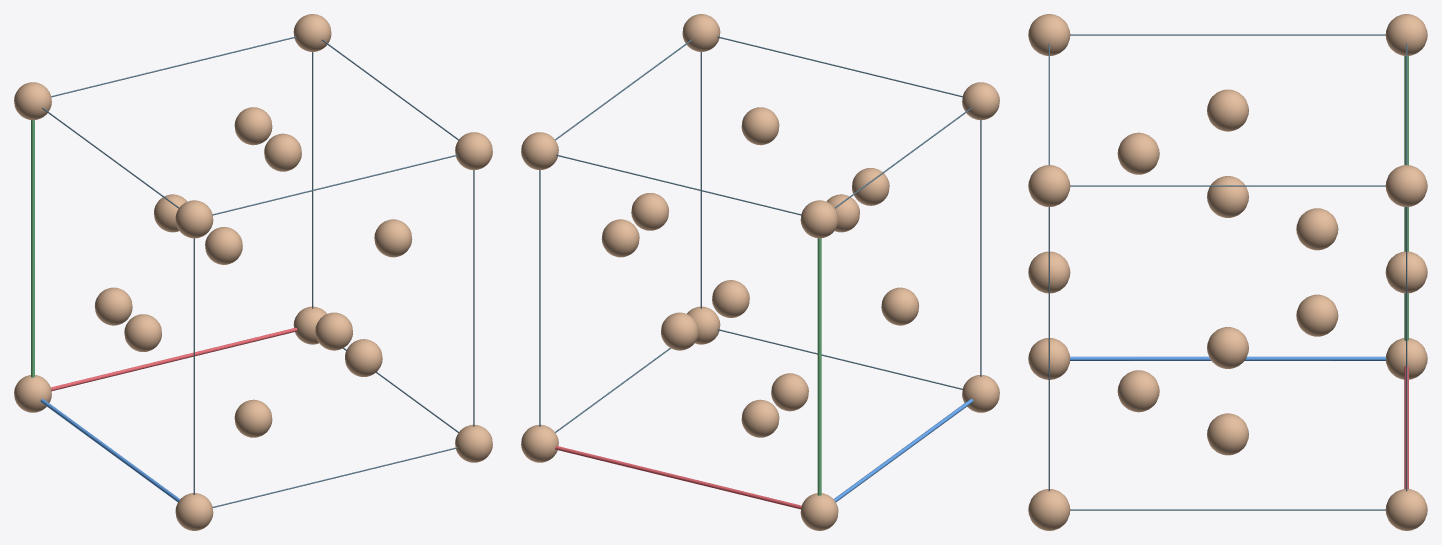
File: nguyen-to-si.glb
The picture shows the model from 3 angles, left to right: view 1: azimuth 30°, elevation 25°; view 2: azimuth 150°, elevation 25°; view 3: azimuth 270°, elevation 25°; orthographic projection. The views are drawn at different scales.
Parts seen in each view (by area): view 1: Si · Si · 1 (×18), Ô mạng và các trục a, b, c; view 2: Si · Si · 1 (×18), Ô mạng và các trục a, b, c; view 3: Si · Si · 1 (×18), Ô mạng và các trục a, b, c.
Part boxes in pixels (box(x1,y1,x2,y2)): Si · Si · 1 (×18): box(14, 14, 492, 530); Ô mạng và các trục a, b, c: box(31, 36, 474, 507); Si · Si · 1 (×18): box(521, 14, 999, 530); Ô mạng và các trục a, b, c: box(539, 36, 981, 509); Si · Si · 1 (×18): box(1028, 14, 1427, 530); Ô mạng và các trục a, b, c: box(1048, 34, 1408, 510).
Size of the model in its own units: 6.07 by 6.07 by 6.07.
